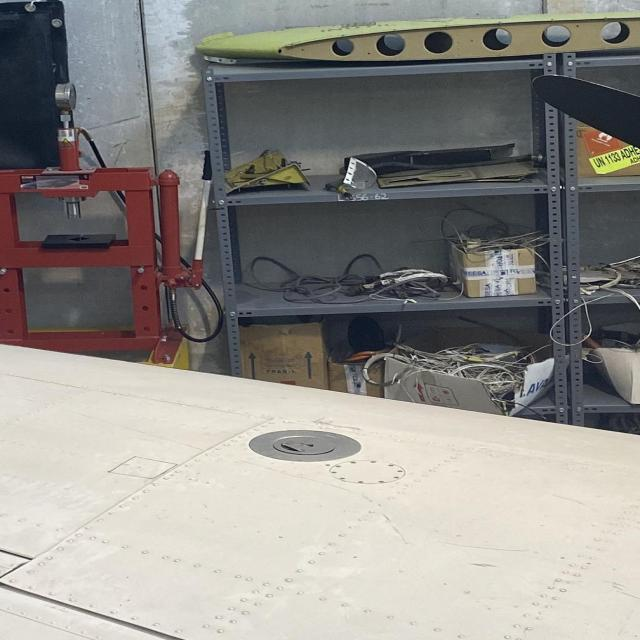Scratch: (424, 530, 540, 556), (380, 511, 414, 545)
